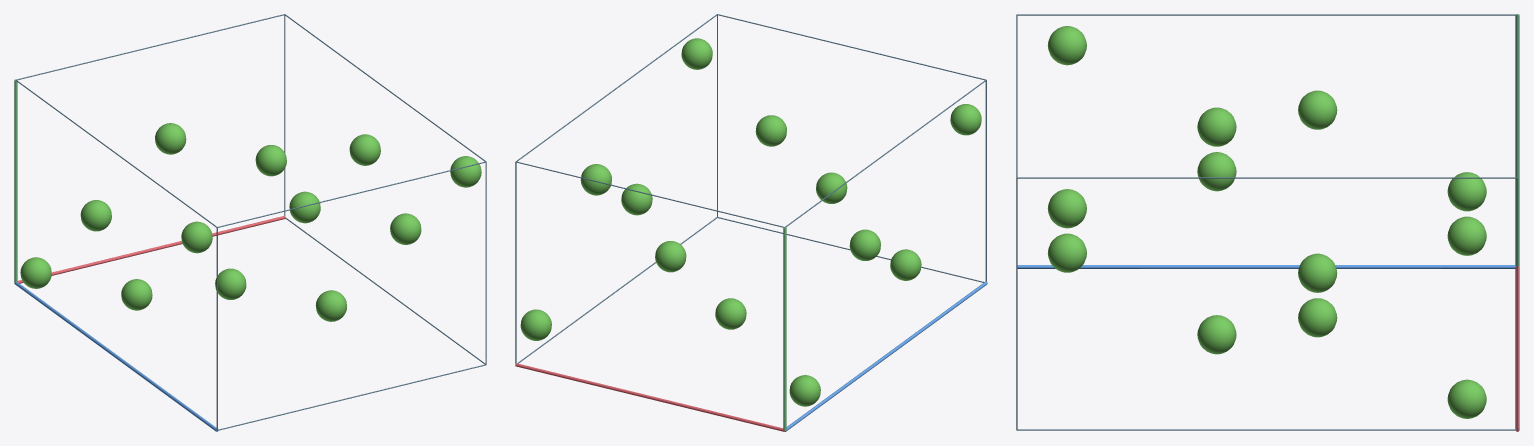
File: chat-solid-chlorine.glb
3 renders of one model, left to right at view 1: azimuth 30°, elevation 25°; view 2: azimuth 150°, elevation 25°; view 3: azimuth 270°, elevation 25°, orthographic. The views are drawn at different scales.
Parts seen in each view (by area): view 1: Cl · Cl · 1 (×12), Ô mạng và các trục a, b, c; view 2: Cl · Cl · 1 (×12), Ô mạng và các trục a, b, c; view 3: Cl · Cl · 1 (×12), Ô mạng và các trục a, b, c.
Boxes of the visible parts, x1=… form: Cl · Cl · 1 (×12): x1=20, y1=123, x2=481, y2=321; Ô mạng và các trục a, b, c: x1=14, y1=14, x2=486, y2=431; Cl · Cl · 1 (×12): x1=520, y1=38, x2=981, y2=406; Ô mạng và các trục a, b, c: x1=515, y1=14, x2=987, y2=431; Cl · Cl · 1 (×12): x1=1047, y1=26, x2=1486, y2=418; Ô mạng và các trục a, b, c: x1=1016, y1=14, x2=1519, y2=431.
Bounding box in the file's own units: 6.93 × 4.58 × 8.21.
